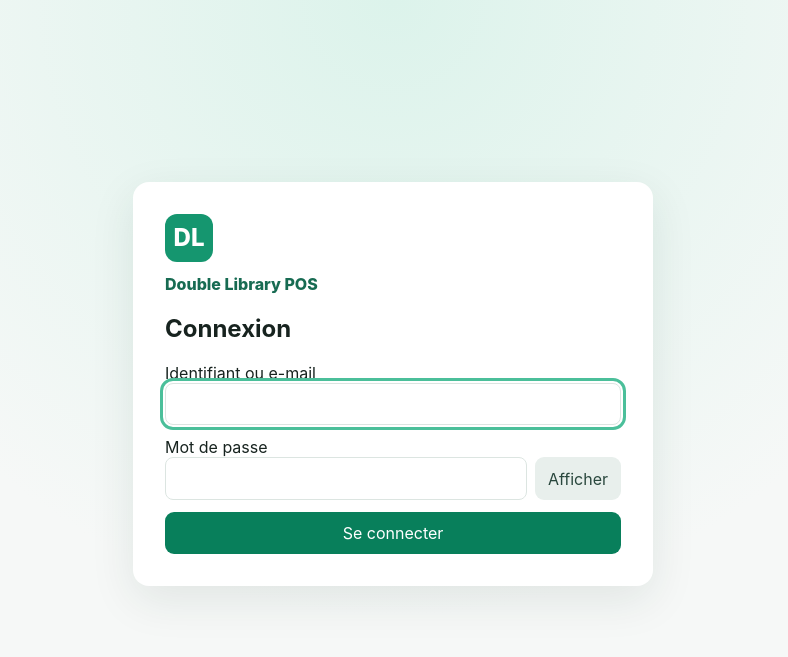
Test: desktop login persistence › revokes the newly issued server session when secure storage fails
The image size is (788, 657).
Type "gerante" into the field labelled "Identifiant ou e-mail" at [393, 404], box [165,383,621,425]
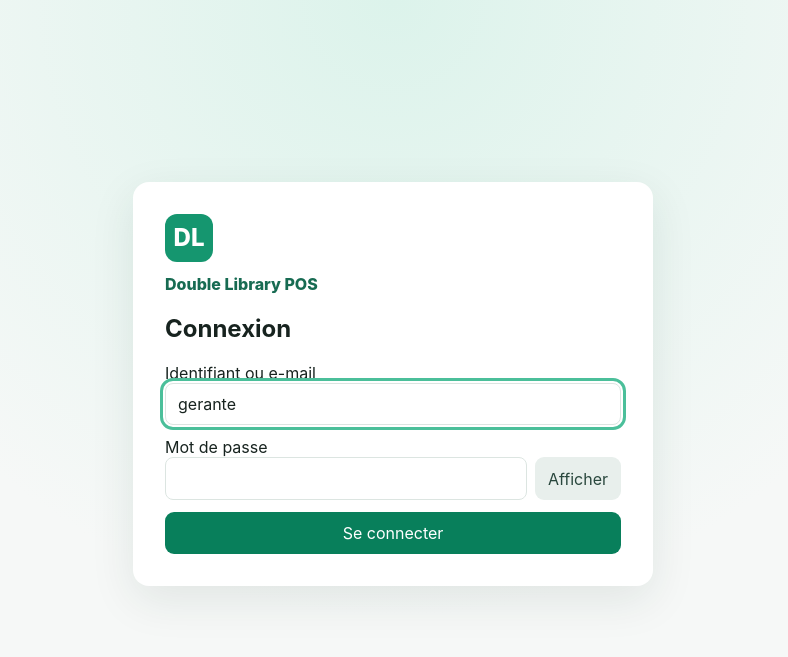
Type "secret" into the password field labelled "Mot de passe" at [346, 479], box [165,457,527,500]
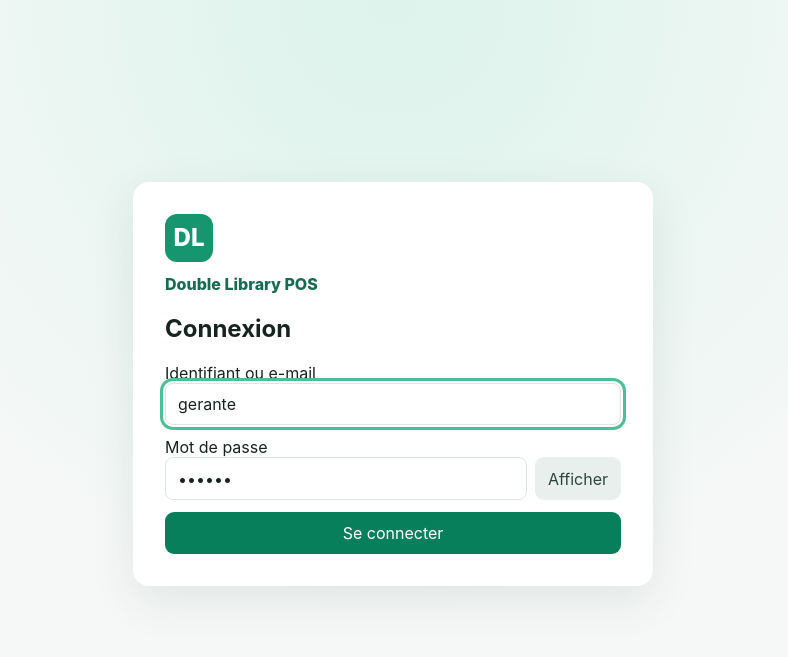
Submit the form "Se connecter", box [165,363,621,554]
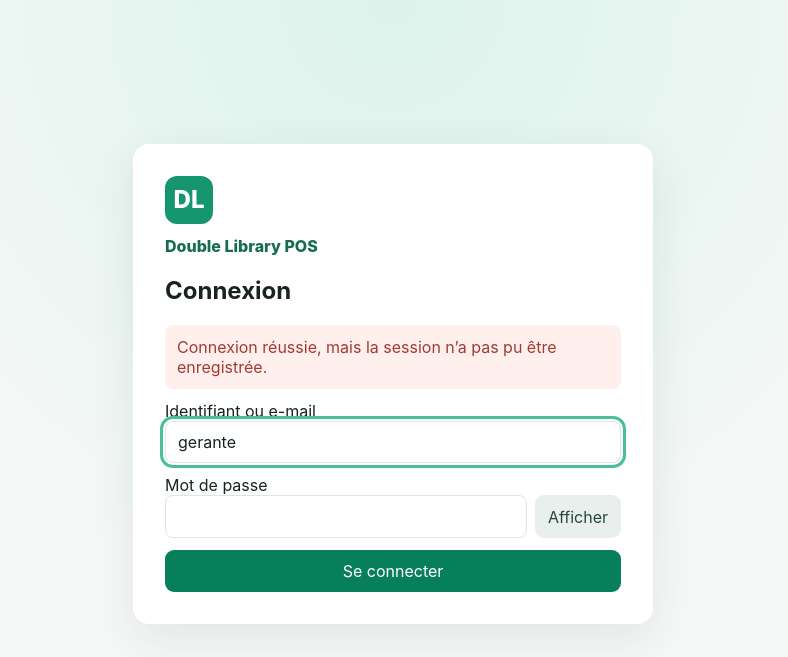
Now the text "Connexion réussie, mais la session n’a pas pu être enregistrée." is shown, box [165,325,621,389]
